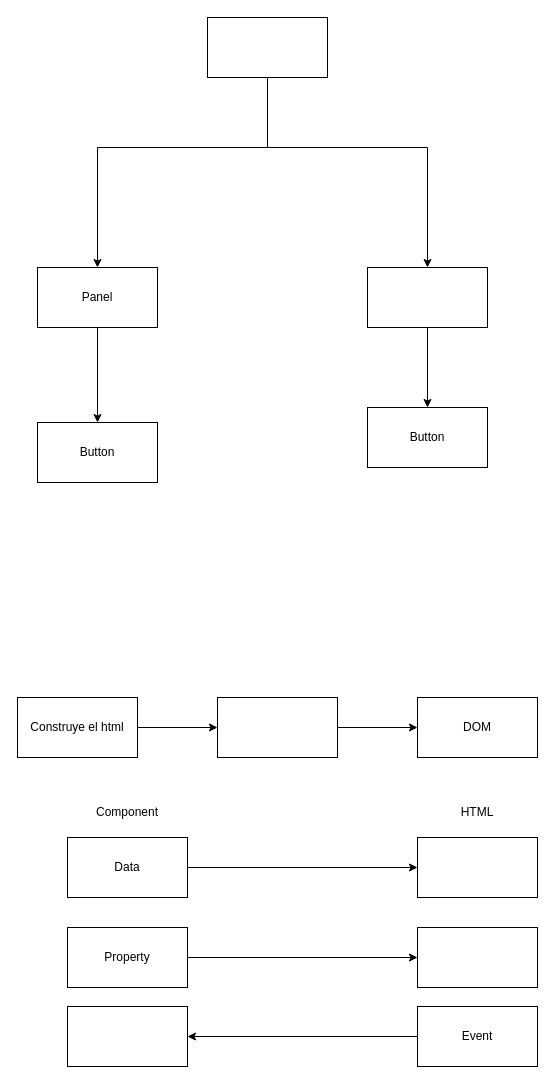
Image size: 555x1084. Some labels were removed from this diagram. Each missing label, with the box of its shape:
root: (206, 16, 328, 78)
ShadowDOM: (216, 696, 338, 758)
